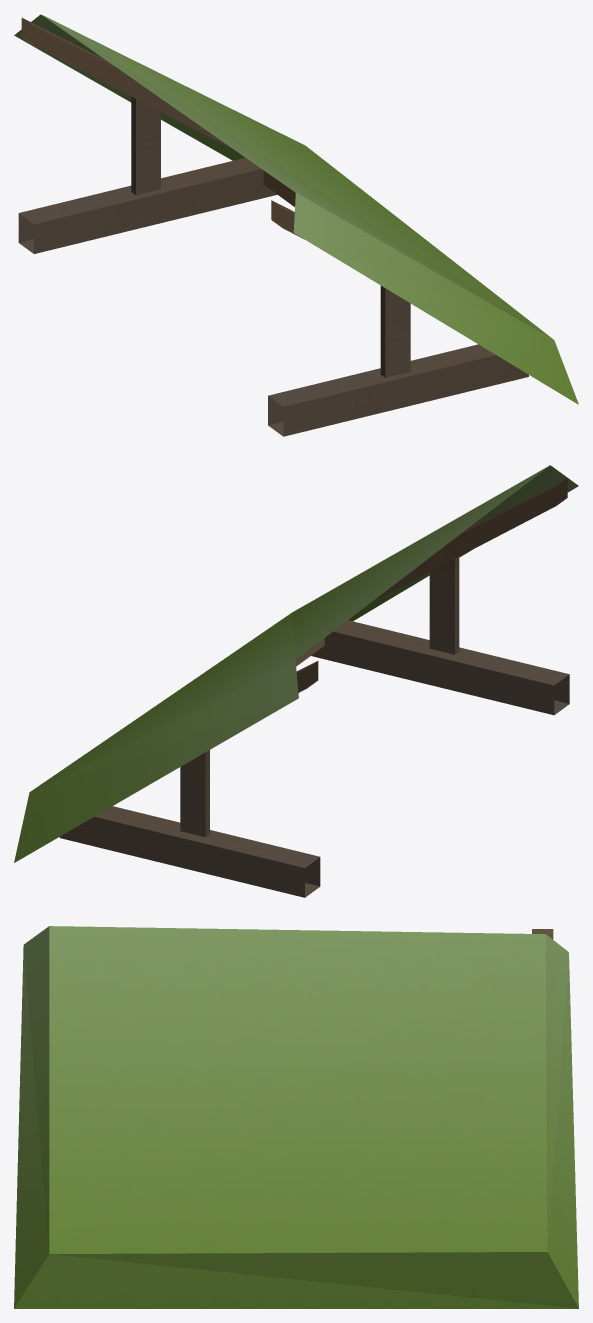
The model's file is Shed_5B_LOD1.fbx.
3 views of the same model, one above another, from view 1: azimuth 30°, elevation 25°; view 2: azimuth 150°, elevation 25°; view 3: azimuth 270°, elevation 25° (orthographic). The views are drawn at different scales.
Parts seen in each view (by area): view 1: polySurface9883; view 2: polySurface9883; view 3: polySurface9883.
Boxes of the visible parts, box(x1,y1,x2,y2) form: polySurface9883: box(14, 14, 578, 436); polySurface9883: box(14, 465, 578, 897); polySurface9883: box(14, 926, 578, 1308).
Bounding box in the file's own units: 168 × 151 × 300.
